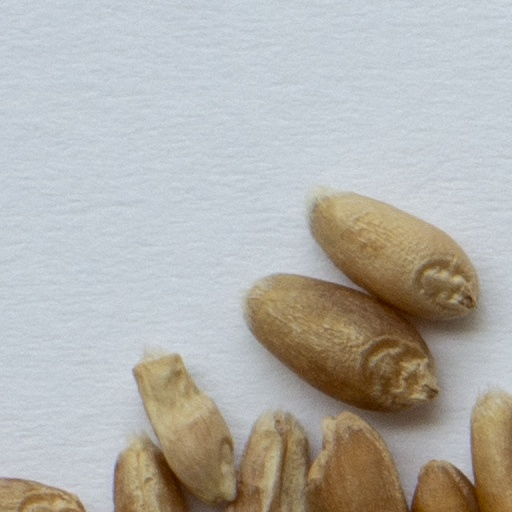Wheat-grain: (247, 275, 437, 411), (310, 194, 479, 318), (135, 356, 235, 504), (308, 414, 405, 511), (231, 411, 307, 511), (114, 440, 186, 511), (474, 391, 511, 511), (414, 462, 477, 511), (0, 480, 85, 511)
